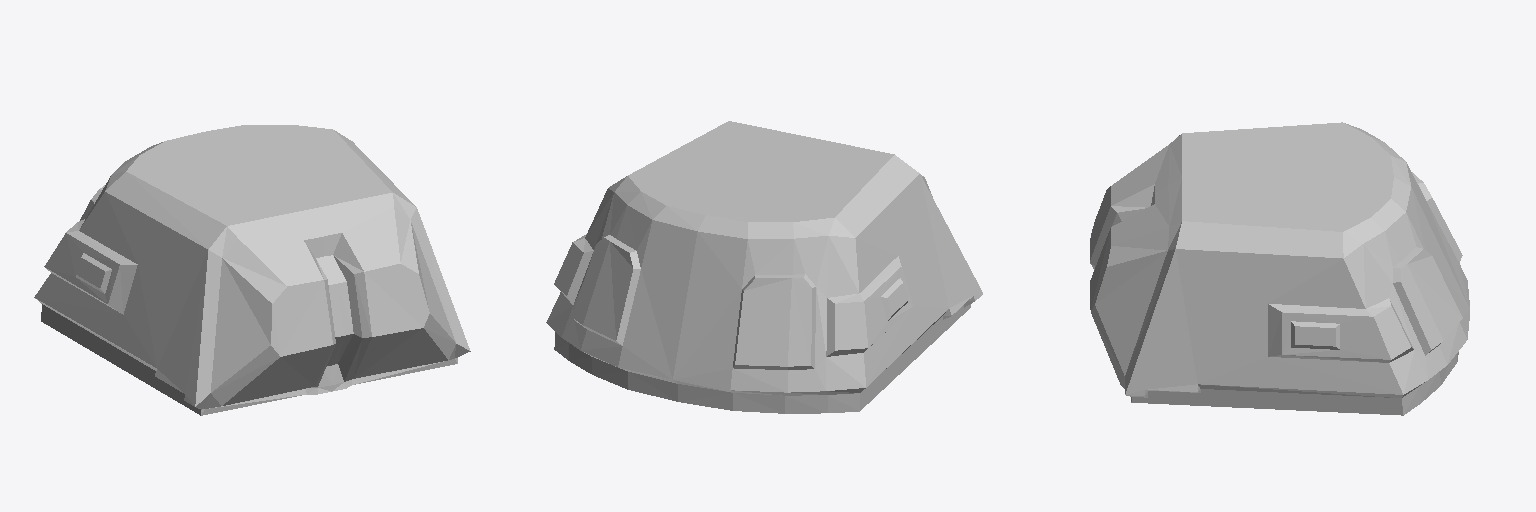
File: gun3-0.obj
The picture shows the model from 3 angles: view 1: azimuth 30°, elevation 25°; view 2: azimuth 150°, elevation 25°; view 3: azimuth 270°, elevation 25°; orthographic projection.
Visible parts, largest first — view 1: Tai_HeavyCruiserGun; view 2: Tai_HeavyCruiserGun; view 3: Tai_HeavyCruiserGun.
Part boxes in pixels (x1,y1,x2,y2): Tai_HeavyCruiserGun: (34,125,470,415); Tai_HeavyCruiserGun: (546,121,982,413); Tai_HeavyCruiserGun: (1090,122,1469,415).
Size of the model in its own units: 41.65 by 21.28 by 42.93.